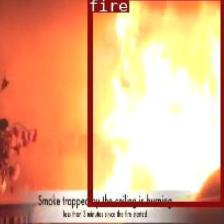fire: (86, 0, 224, 206)
